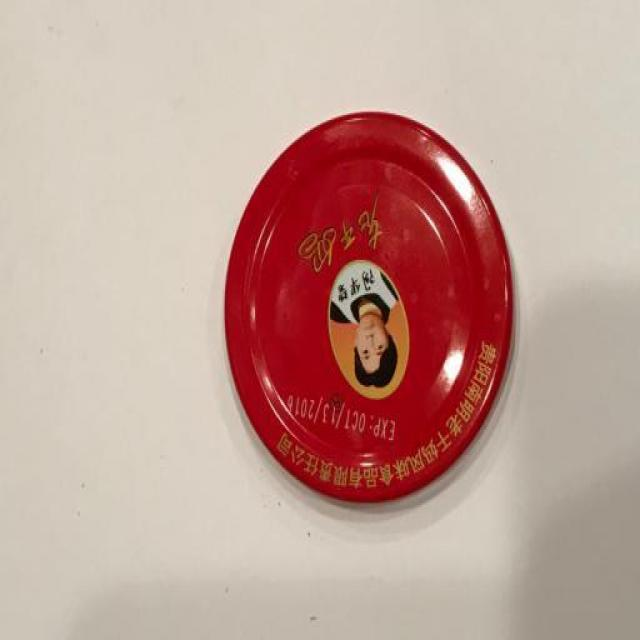metel: (209, 78, 563, 501)
